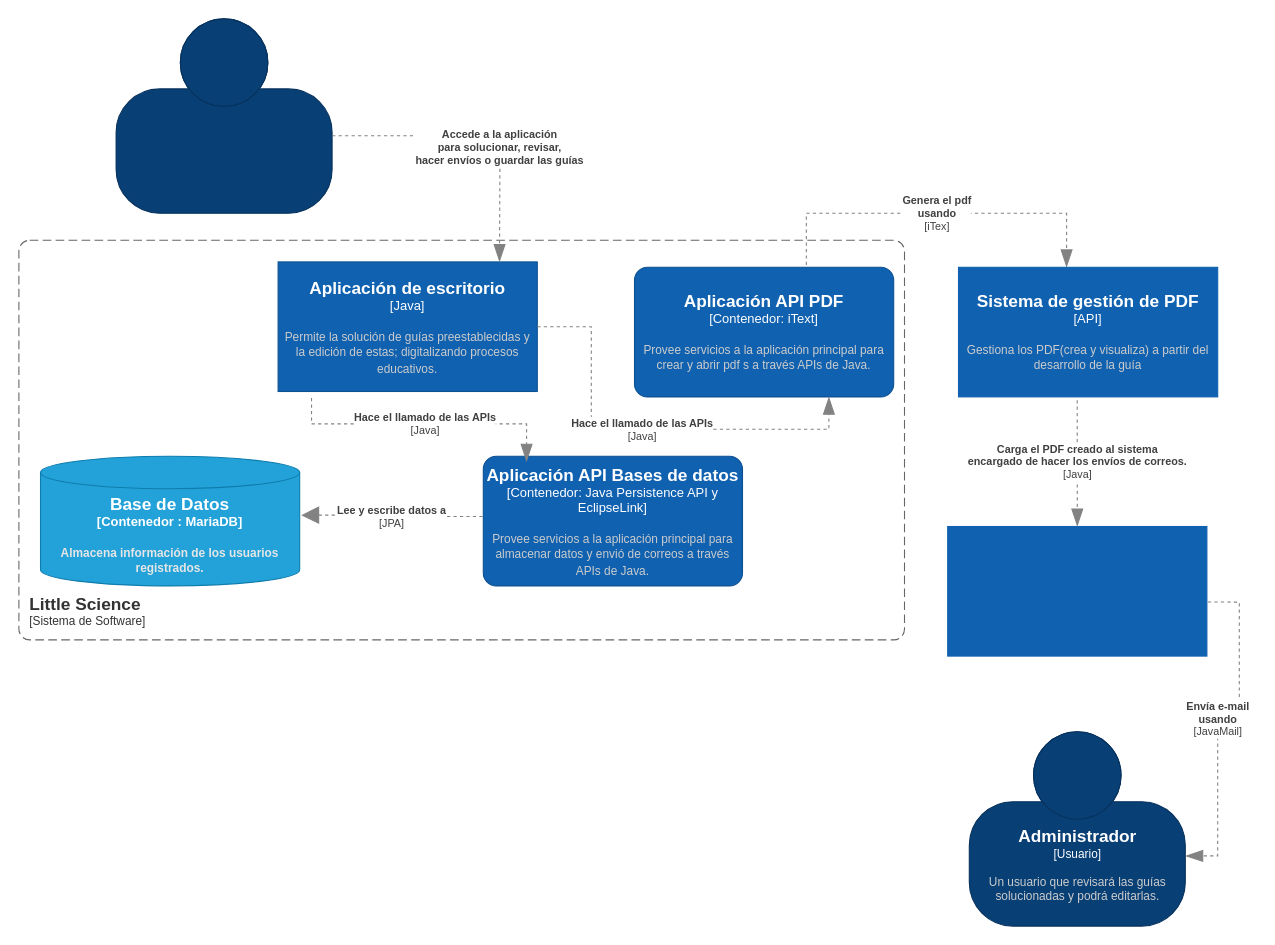
Some shapes in this 1275 by 945 pixel diagram are drawn without their labels. Each missing label, with the centre of its shape:
Estudiante [Usuario] Un Estudiante registrado en la aplicación.: the point at 223,115
Sistema de E-mail [API] Gestiona los correos y hace envió de estos.: the point at 1077,590
